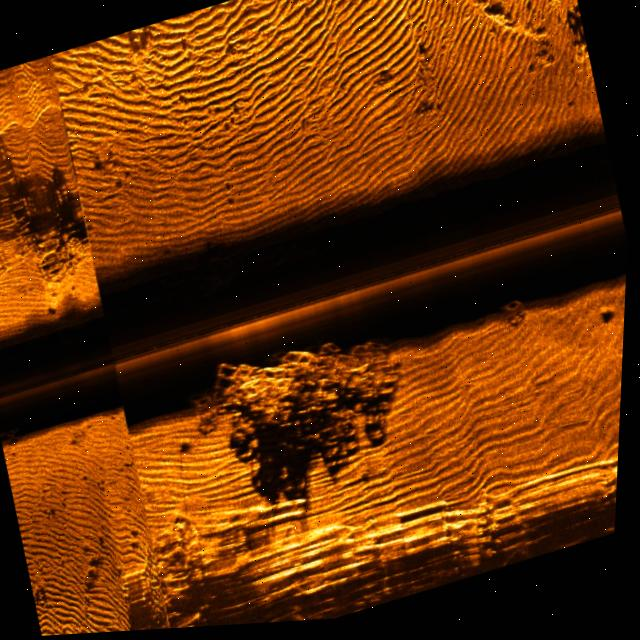artificial reef: (171, 292, 422, 473), (484, 283, 555, 342)
